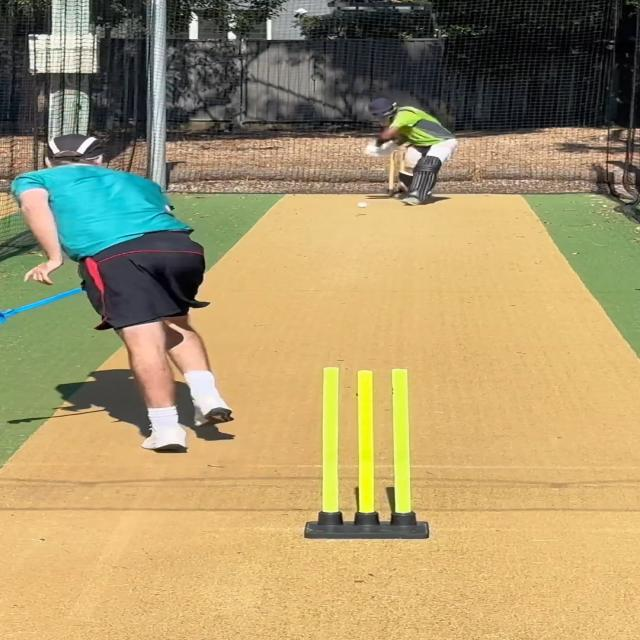ball: (355, 201, 369, 210)
stump: (307, 365, 431, 539)
